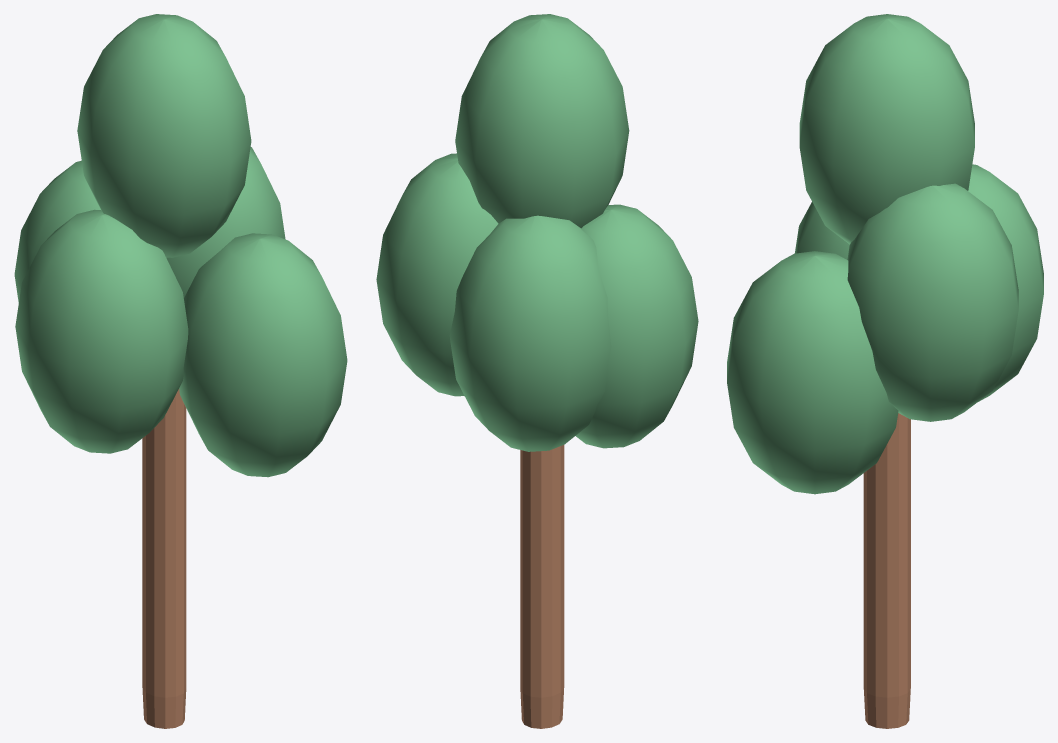
The model's file is street_tree.glb.
3 renders of one model, left to right at view 1: azimuth 30°, elevation 25°; view 2: azimuth 150°, elevation 25°; view 3: azimuth 270°, elevation 25°, orthographic.
Parts seen in each view (by area): view 1: model; view 2: model; view 3: model.
Boxes of the visible parts, <box> form: model: <box>14,14,347,728</box>; model: <box>376,14,698,728</box>; model: <box>727,14,1043,728</box>.
Size of the model in its own units: 0.9 by 2.2 by 0.9.
